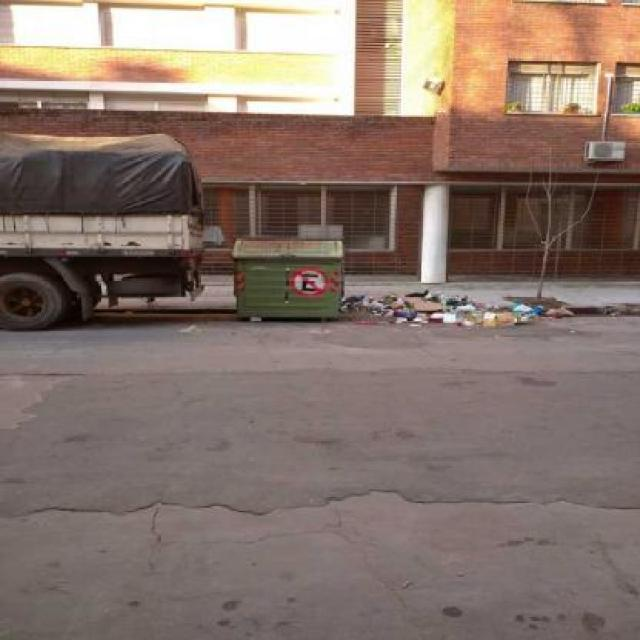garbage: (342, 293, 554, 329), (160, 311, 212, 347)
